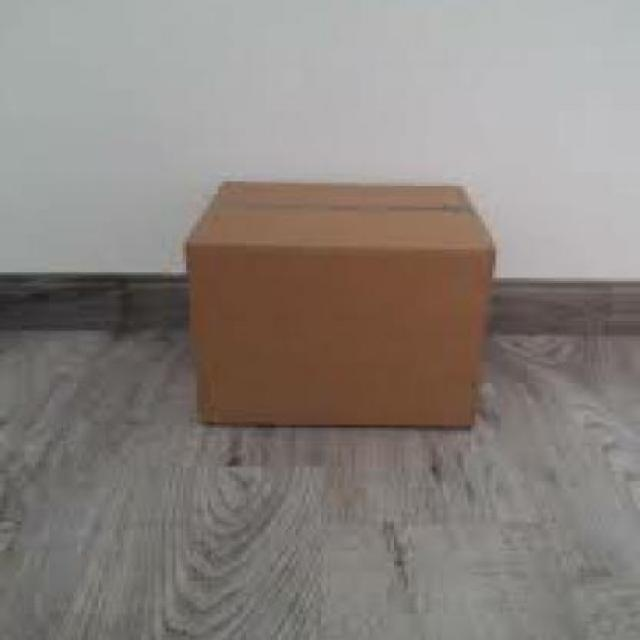box: (165, 167, 513, 441)
